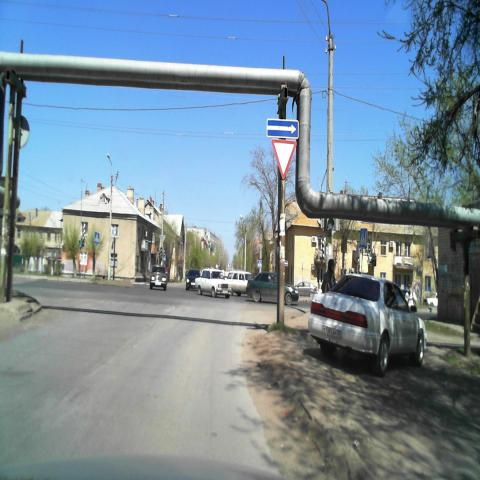2_4: (271, 139, 297, 180)
5_19_1: (360, 228, 368, 248), (94, 231, 100, 245), (257, 260, 262, 269)
5_7_1: (266, 118, 298, 139)
